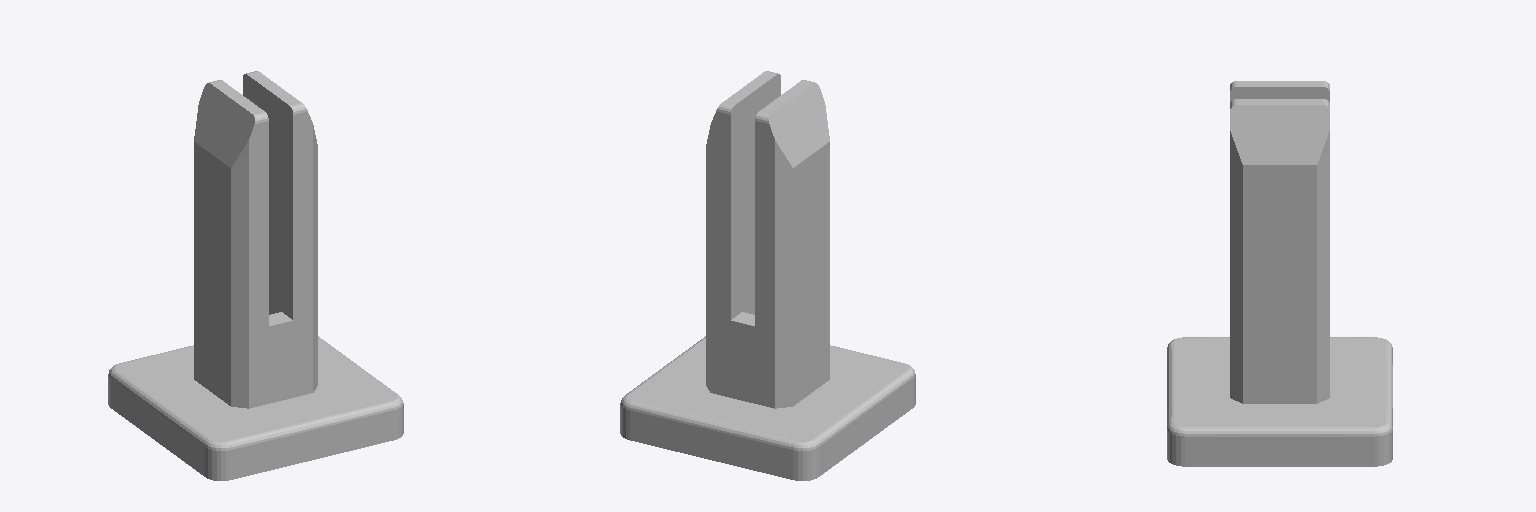
The model's file is spartan-spigot-s2-cm.obj.
The picture shows the model from 3 angles: view 1: azimuth 30°, elevation 25°; view 2: azimuth 150°, elevation 25°; view 3: azimuth 270°, elevation 25°; orthographic projection.
Parts seen in each view (by area): view 1: Solid1; view 2: Solid1; view 3: Solid1.
Part boxes in pixels (x1,y1,x2,y2): Solid1: (108, 71, 403, 480); Solid1: (620, 71, 915, 480); Solid1: (1167, 81, 1392, 466).
Size of the model in its own units: 10.16 by 16.17 by 10.16.